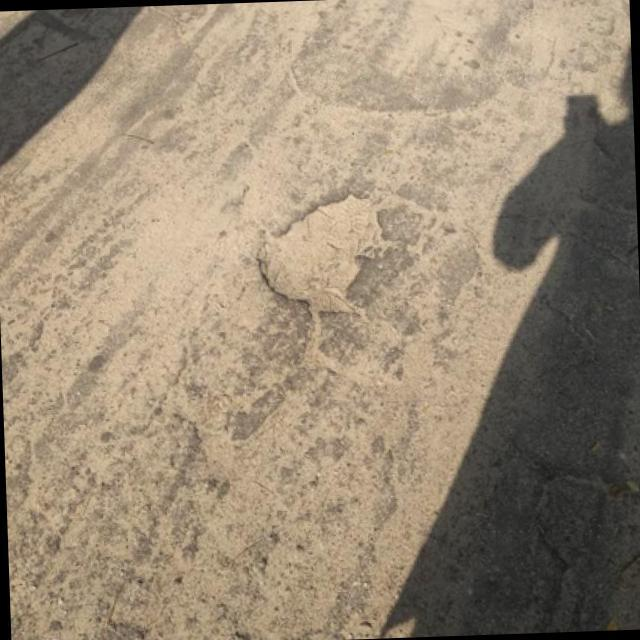Pothole: (259, 195, 380, 311)
